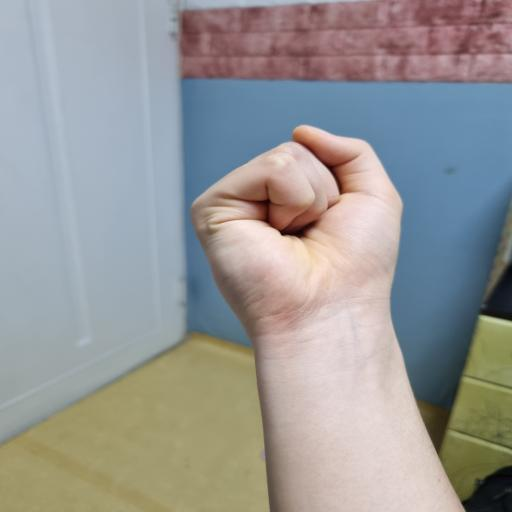Rock: (189, 124, 404, 344)
